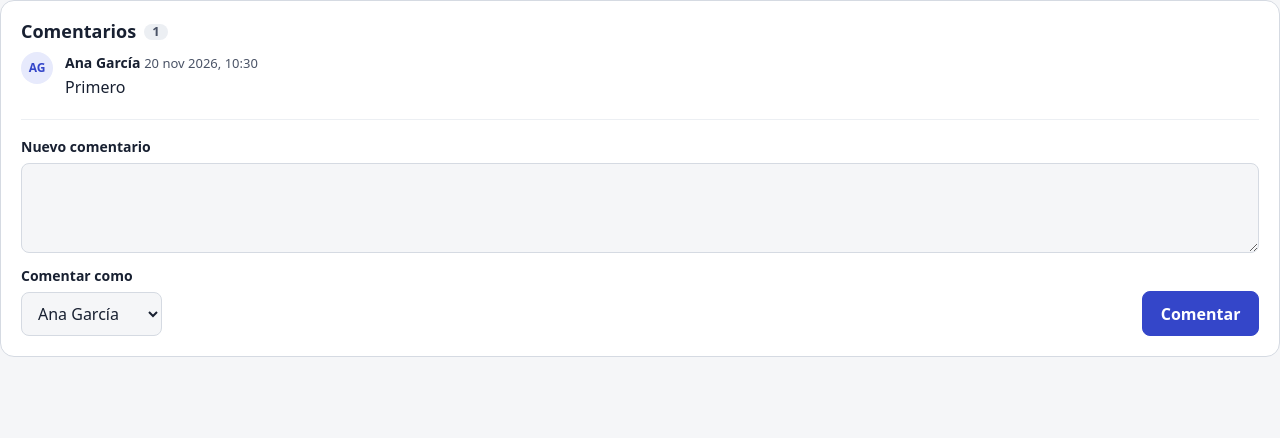
it: Comentarios › publica con el autor elegido, lo añade al final y vacía el campo
Select "Bruno López" in the dropdown labelled "Comentar como": {"x": 92, "y": 314} [21,292,162,336]
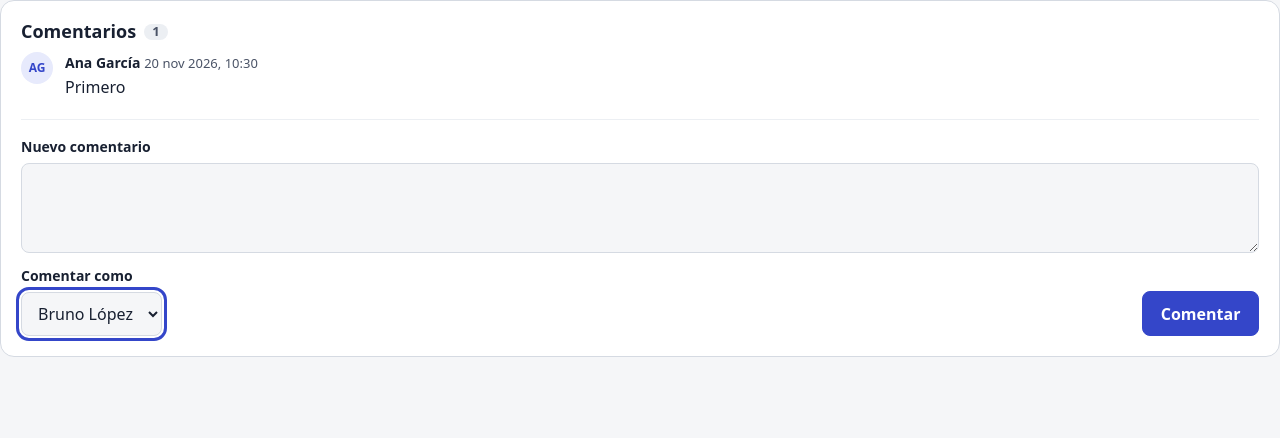
In the text box labelled "Nuevo comentario": {"x": 640, "y": 208} [21,163,1259,253], type "Listo"
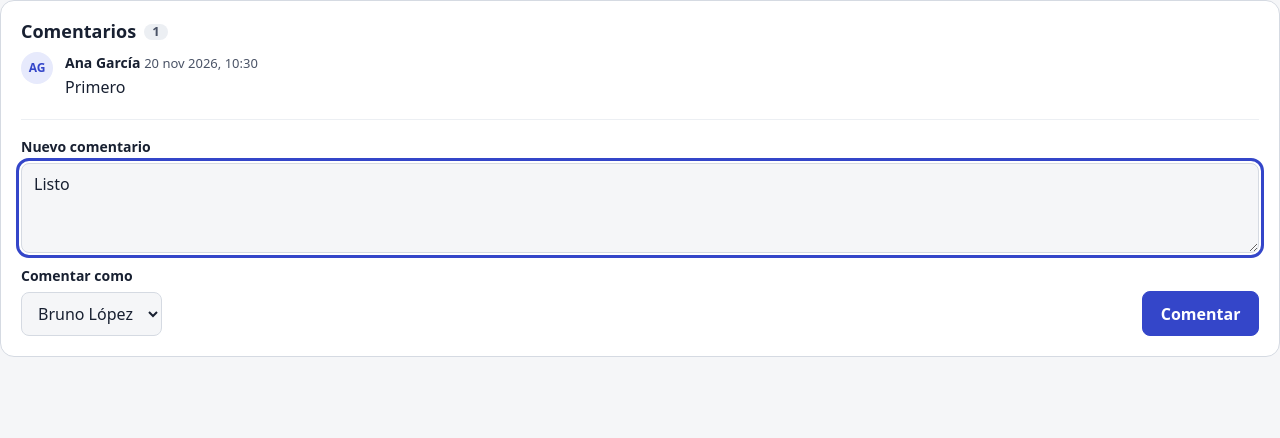
Click the button "Comentar": {"x": 1201, "y": 314} [1142,291,1259,336]
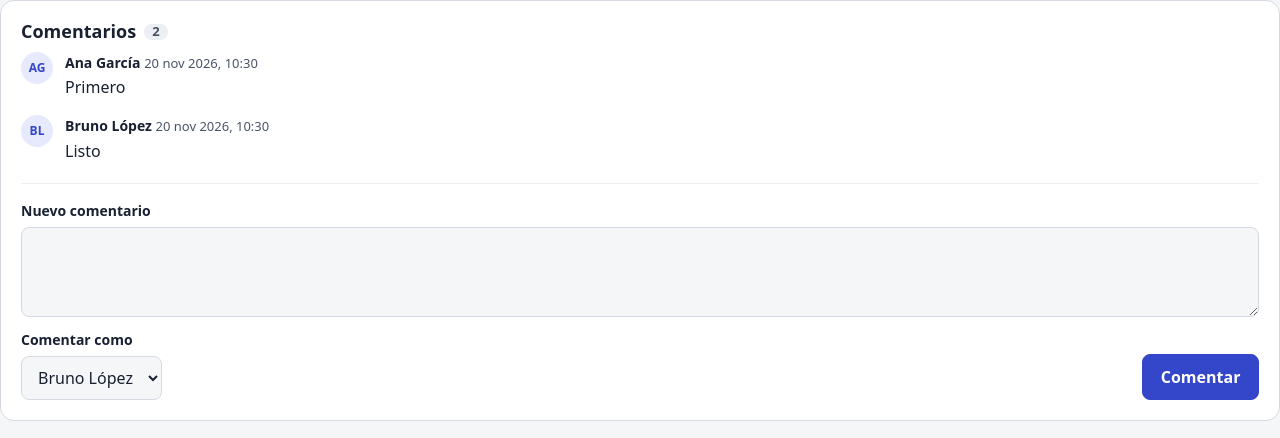
Check: the list item "BL Bruno López 20 nov 2026, 10:30 Listo" is shown, box [21,115,269,162]
Check: the text box labelled "Nuevo comentario" is empty, box [21,227,1259,317]
